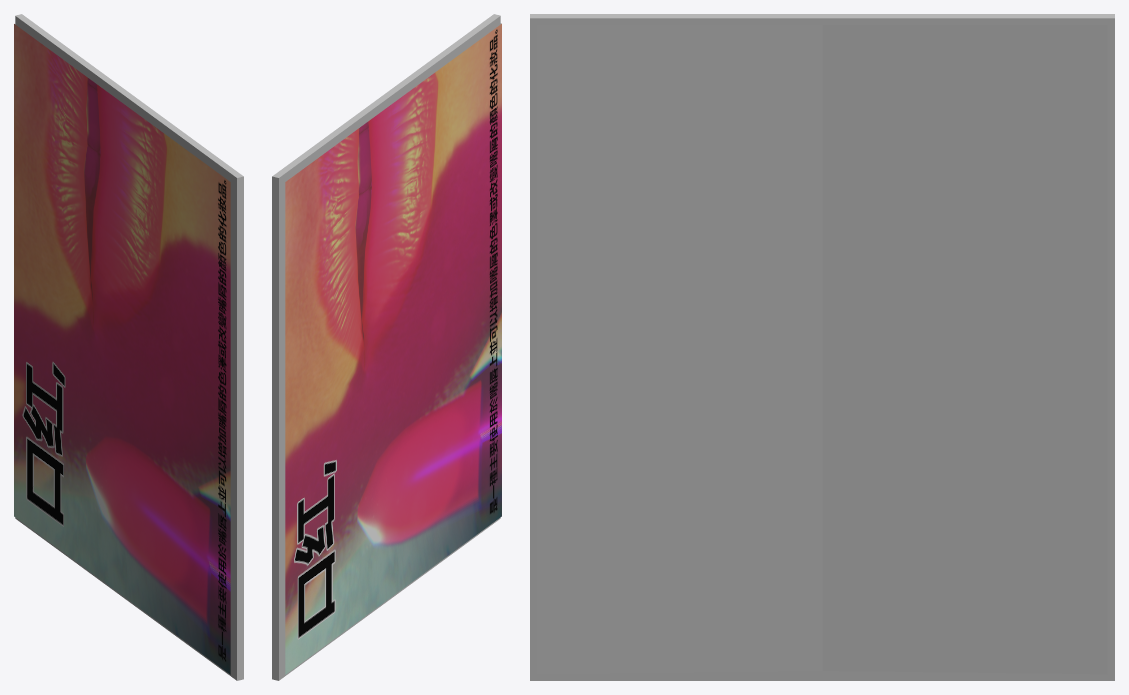
File: advertis plane h.FBX
3 renders of one model, left to right at view 1: azimuth 30°, elevation 25°; view 2: azimuth 150°, elevation 25°; view 3: azimuth 270°, elevation 25°, orthographic. The views are drawn at different scales.
Parts seen in each view (by area): view 1: Box207; view 2: Box207; view 3: Box207.
Part boxes in pixels (x1,y1,x2,y2): Box207: (14,14,243,680); Box207: (272,14,501,680); Box207: (530,14,1114,680).
Size of the model in its own units: 0.11 by 5 by 4.
